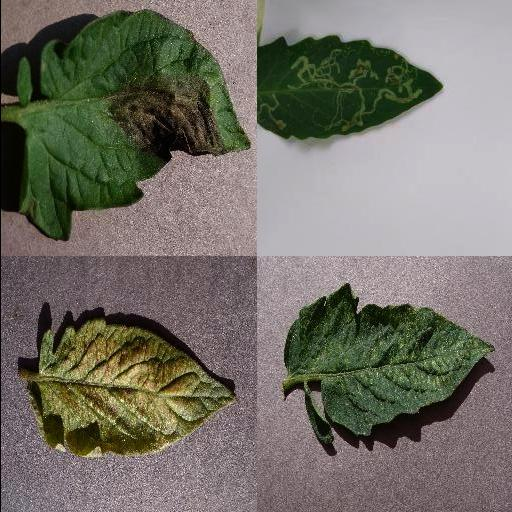Late Blight: (17, 10, 251, 244)
Leaf Miner: (259, 35, 443, 141)
Spider Mites: (282, 283, 494, 437), (39, 318, 237, 460)
